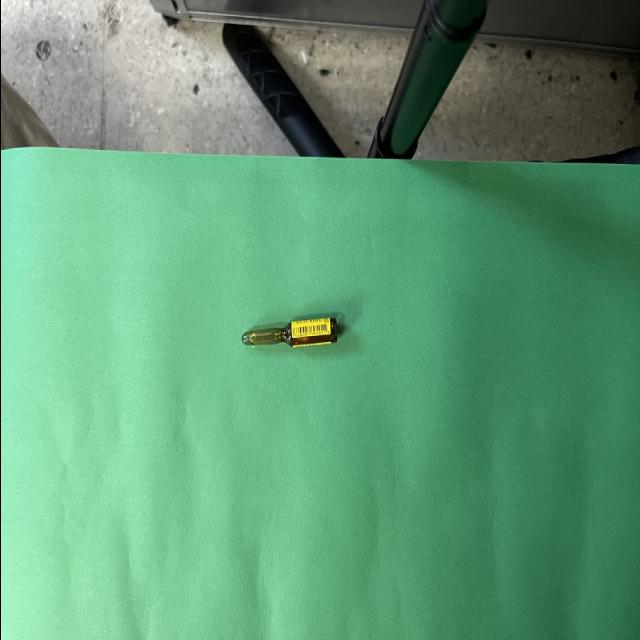Ampoules: (240, 317, 336, 347)
